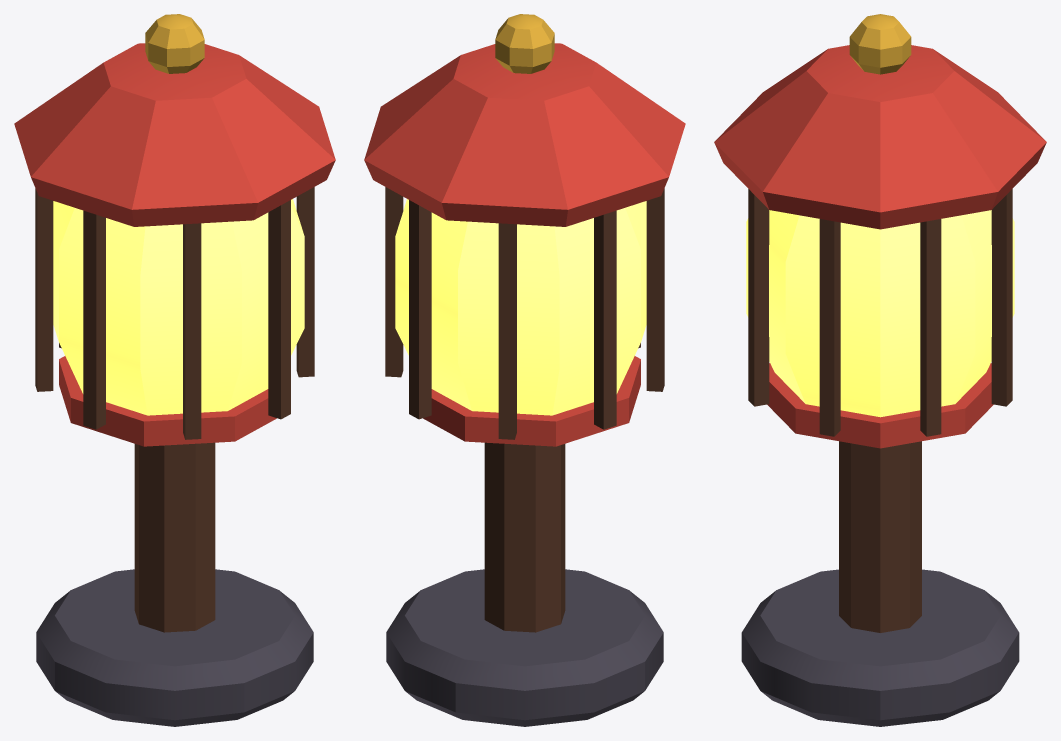
The model's file is sumo_lantern.glb.
3 views of the same model, side by side, from view 1: azimuth 30°, elevation 25°; view 2: azimuth 150°, elevation 25°; view 3: azimuth 270°, elevation 25° (orthographic).
Parts seen in each view (by area): view 1: sumo_lantern; view 2: sumo_lantern; view 3: sumo_lantern.
Boxes of the visible parts, x1,y1,x2,y2 form: sumo_lantern: (14,14,335,726); sumo_lantern: (364,14,685,726); sumo_lantern: (714,14,1046,726).
Bounding box in the file's own units: 0.72 × 1.57 × 0.72.
